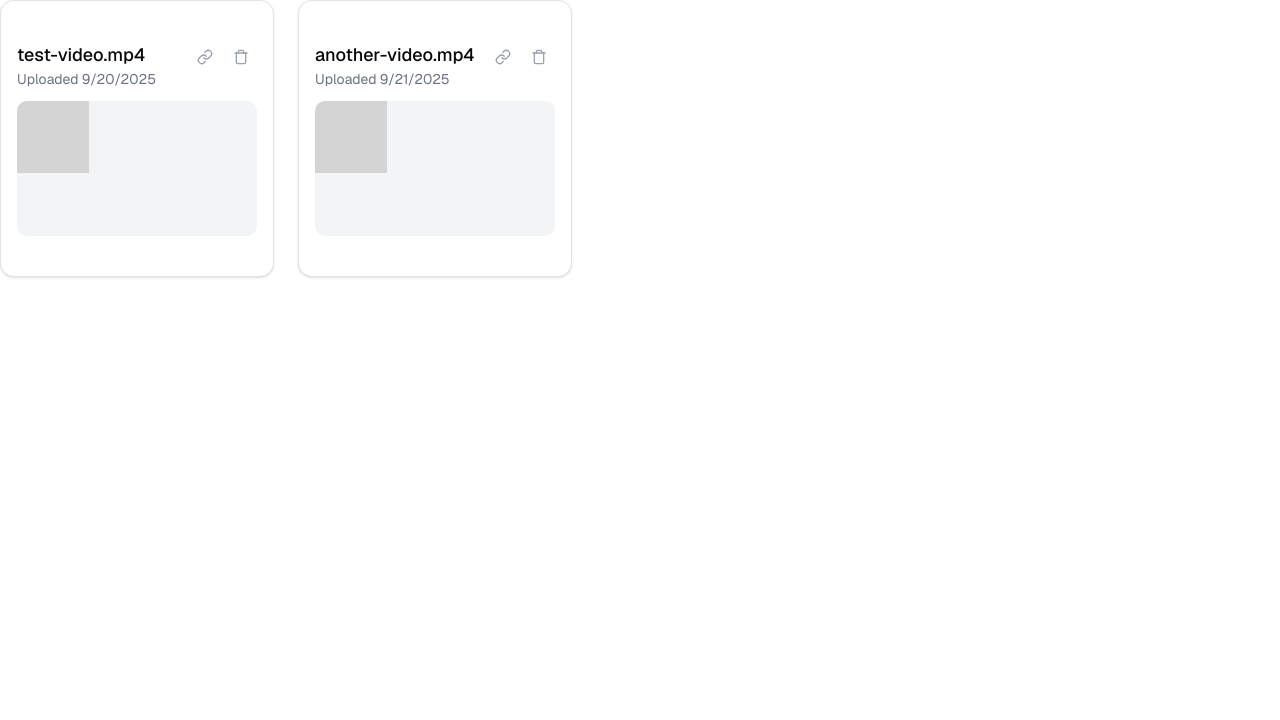
it: VideoGrid › Delete functionality › closes confirmation dialog when cancel is clicked
The image size is (1280, 720).
// Open dialog
Click the button titled "Delete \"test-video.mp4\"" at (241, 57), box [225, 41, 257, 73]
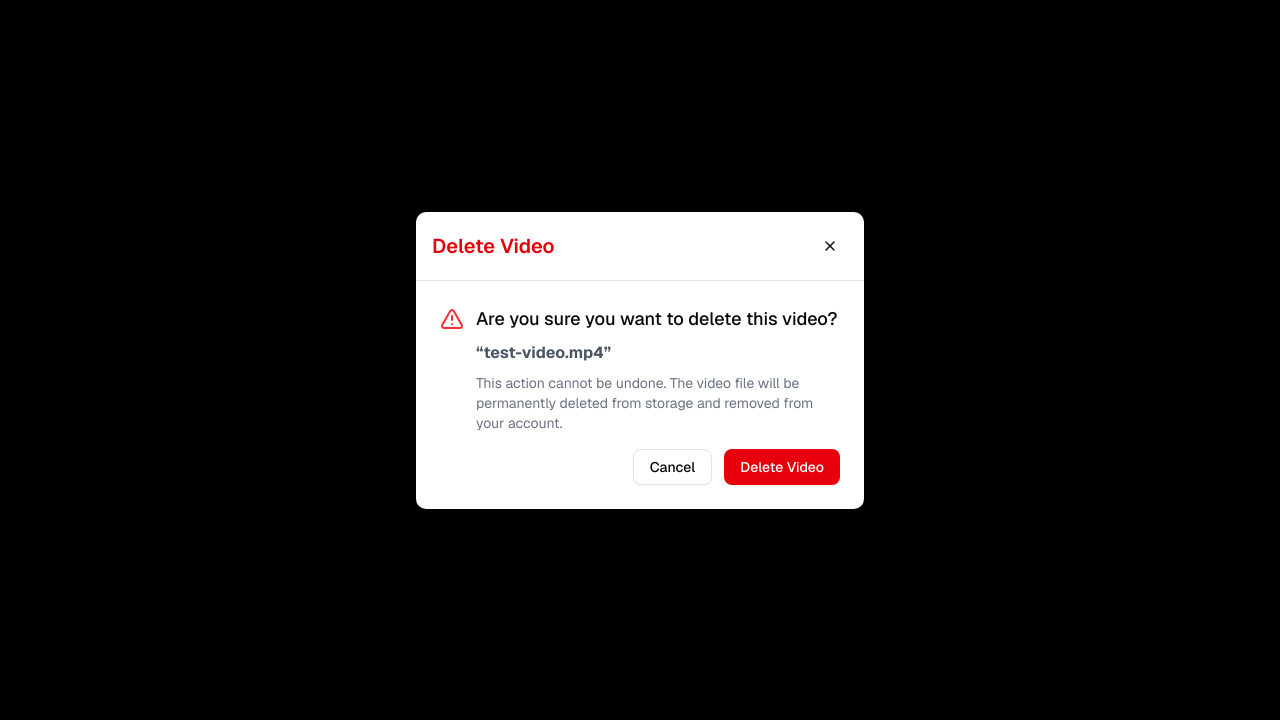
// Close dialog
Click the button "Cancel" at (672, 466), box [633, 448, 712, 484]
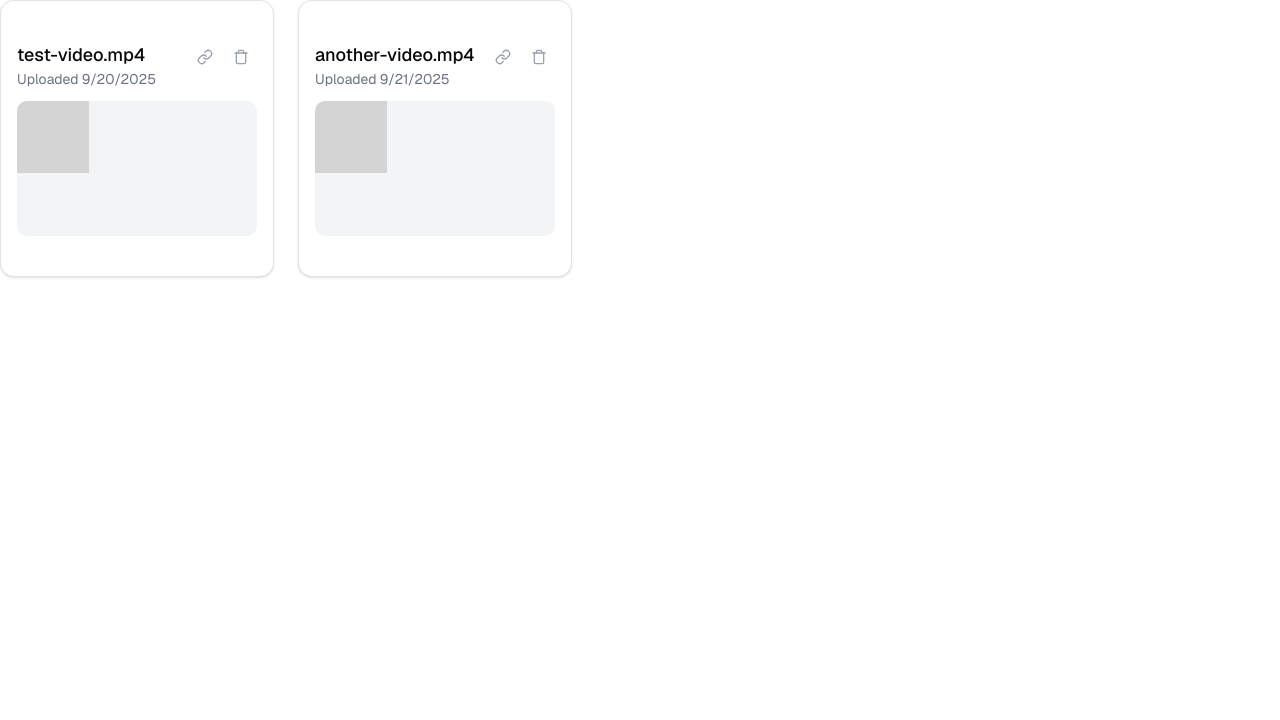
Check: the heading "Delete Video" is gone
